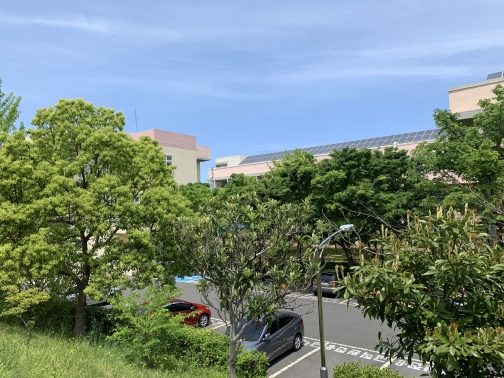College Of Education: (124, 69, 504, 219)
